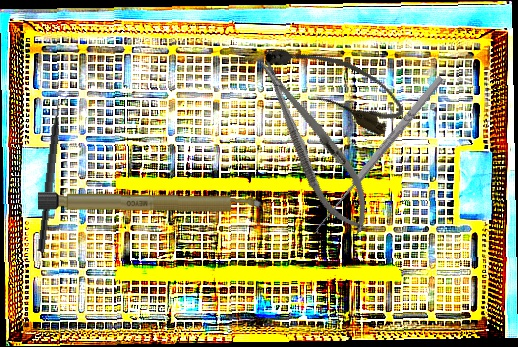Cannula: (257, 24, 412, 141)
Chopper: (37, 92, 72, 254)
Hook Surgical: (311, 73, 451, 240)
Needle Holder: (243, 48, 385, 243)
Scalpel Handle: (37, 192, 262, 214)
